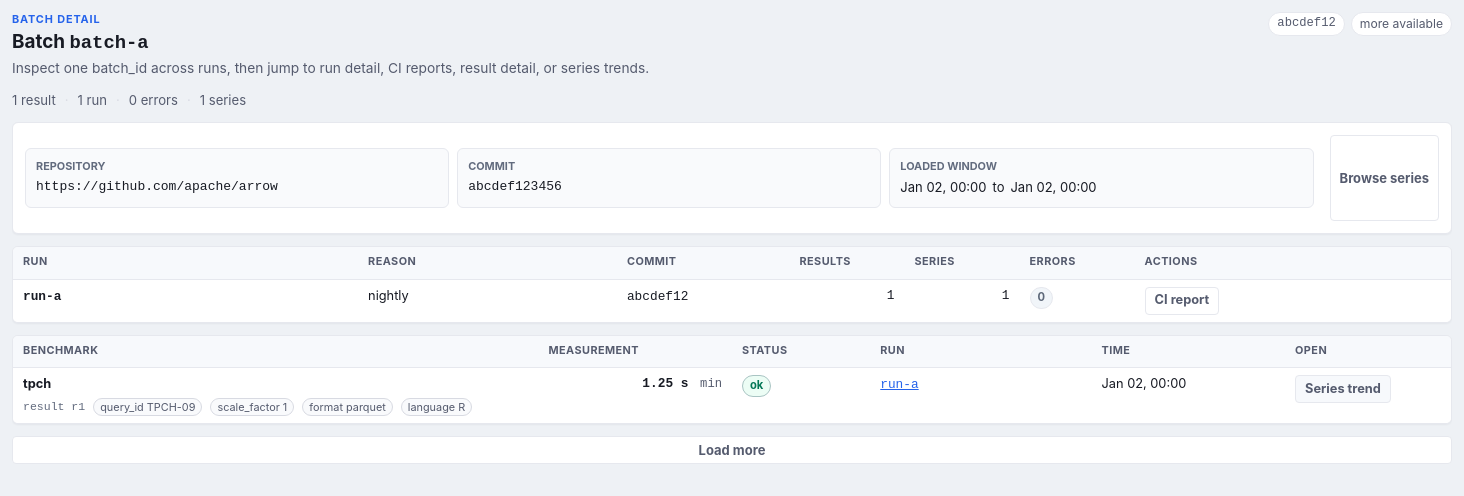
BatchPage › deduplicates run-group series counts across appended pages
The width and height of the screenshot is (1464, 496).
expect the text "result r1" is shown: met, box [23,398,85,415]
Click the button "Load more" at coordinates (732, 450), box [12,436,1452,464]
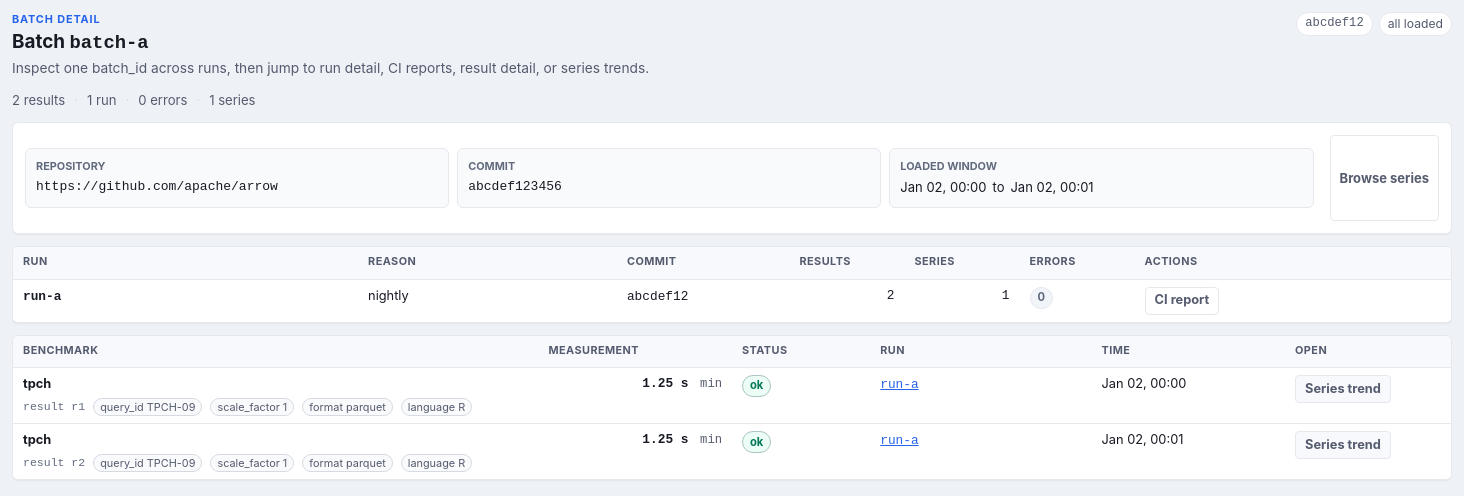
expect the text "1 series" is shown: met, box [187,91,256,110]
expect the text "result r2" is shown: met, box [23,455,85,472]
expect the row "run-a nightly abcdef12 2 1 0 CI report" is shown: met, box [13,279,1451,322]
